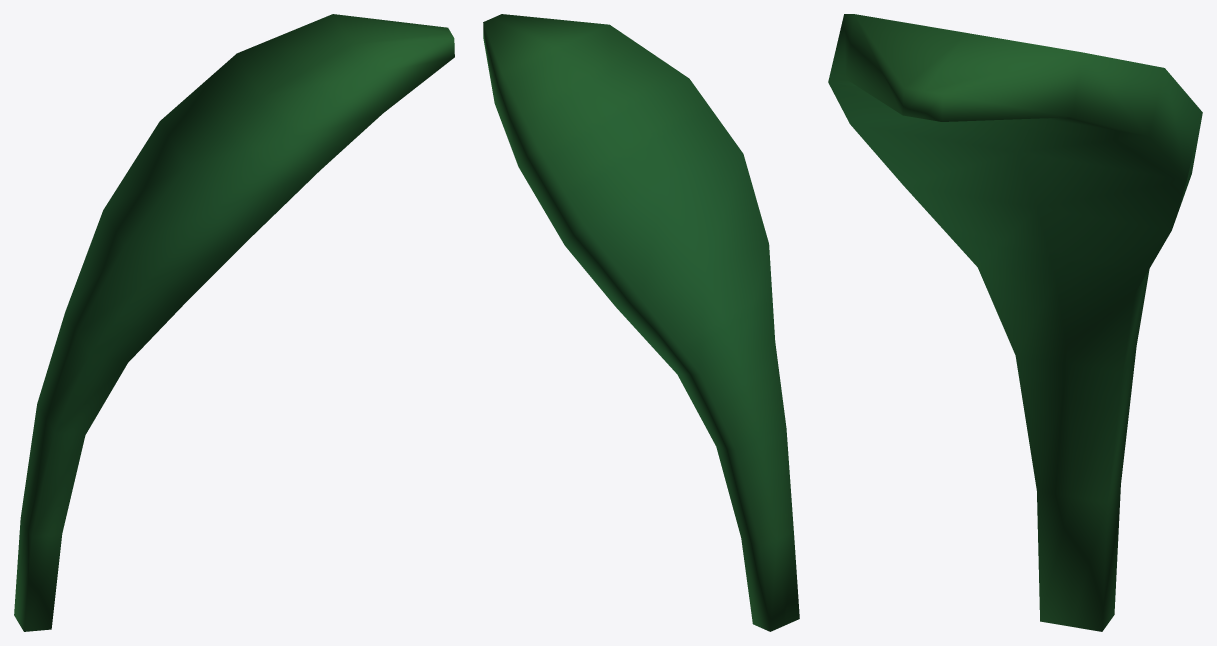
File: flowerleaves1.fbx
The picture shows the model from 3 angles, left to right: view 1: azimuth 30°, elevation 25°; view 2: azimuth 150°, elevation 25°; view 3: azimuth 270°, elevation 25°; orthographic projection. The views are drawn at different scales.
Parts seen in each view (by area): view 1: Cylinder.025; view 2: Cylinder.025; view 3: Cylinder.025.
Boxes of the visible parts, box(x1,y1,x2,y2) form: Cylinder.025: box(14, 14, 454, 631); Cylinder.025: box(483, 14, 799, 631); Cylinder.025: box(828, 14, 1202, 631).
Bounding box in the file's own units: 4.26 × 5.69 × 2.44.
